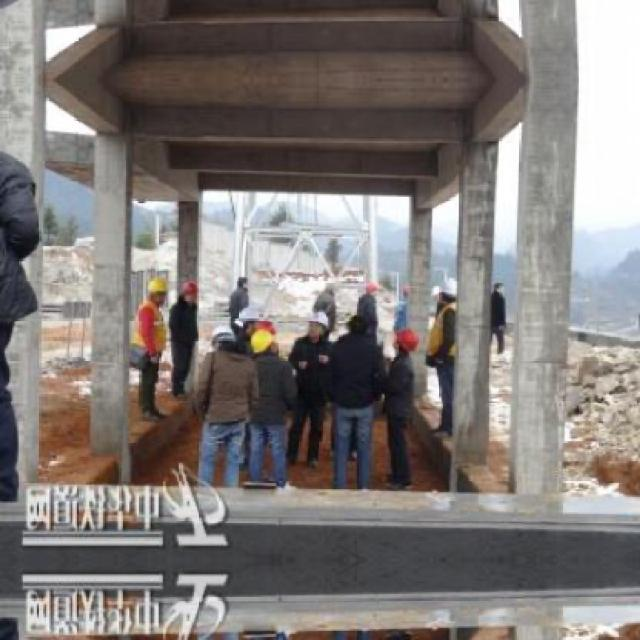con casco: (125, 264, 158, 325), (432, 289, 485, 324), (202, 324, 251, 354), (242, 327, 286, 355)
